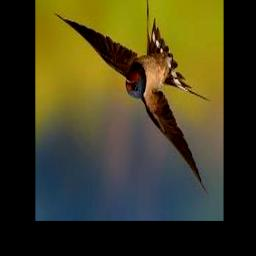Swallow: (54, 0, 210, 197)
